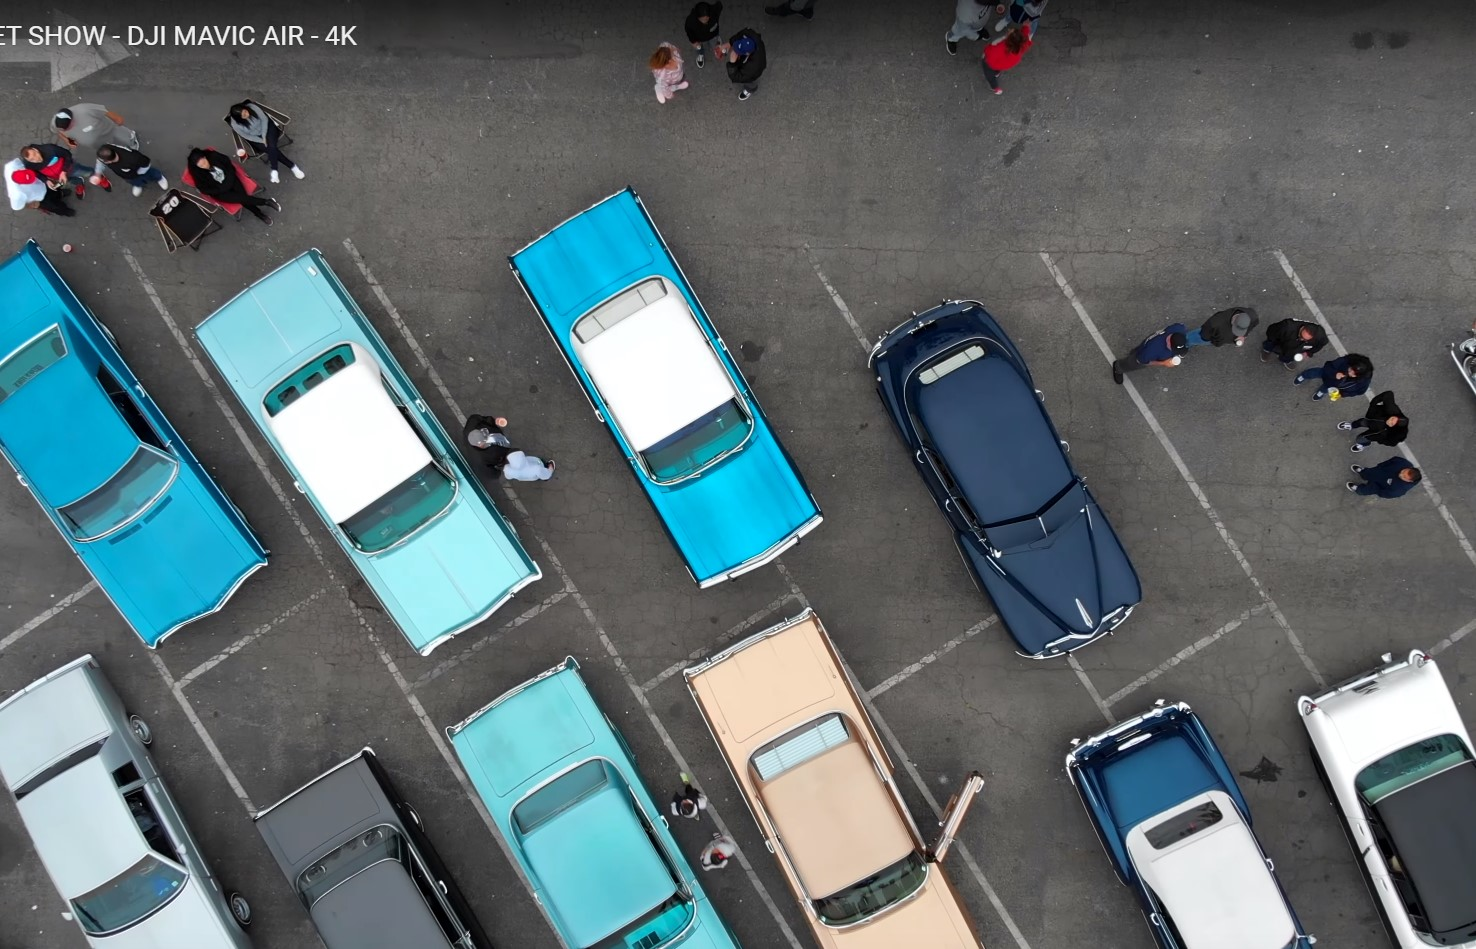araba: (184, 247, 536, 657), (489, 180, 826, 594), (1, 231, 266, 657), (860, 296, 1143, 663), (682, 608, 985, 949), (440, 656, 743, 949), (1, 644, 254, 949), (1064, 690, 1309, 949), (1295, 641, 1476, 928), (250, 748, 480, 949)
insan: (223, 90, 310, 184), (39, 101, 157, 168), (179, 145, 282, 221), (1108, 318, 1194, 386), (984, 14, 1048, 99), (20, 145, 120, 198), (3, 154, 78, 220), (93, 143, 178, 201), (1338, 386, 1411, 453), (1295, 350, 1374, 402), (1343, 454, 1426, 501), (719, 22, 766, 104), (1264, 310, 1327, 369), (1186, 306, 1260, 353), (659, 770, 714, 823), (944, 1, 987, 68), (648, 37, 687, 106), (499, 445, 556, 489), (693, 829, 741, 874), (688, 1, 723, 65), (462, 414, 511, 457)
